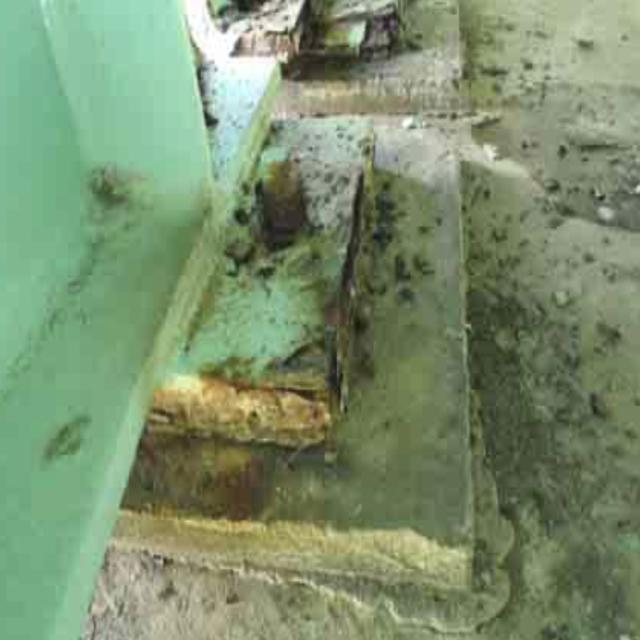corrosion: (182, 116, 407, 463)
